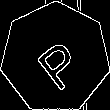P_NW: (26, 26, 85, 89)
